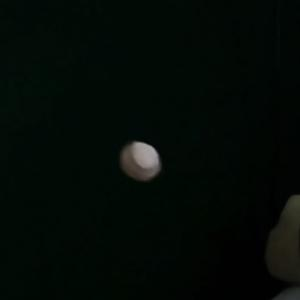ball: (118, 139, 163, 184)
